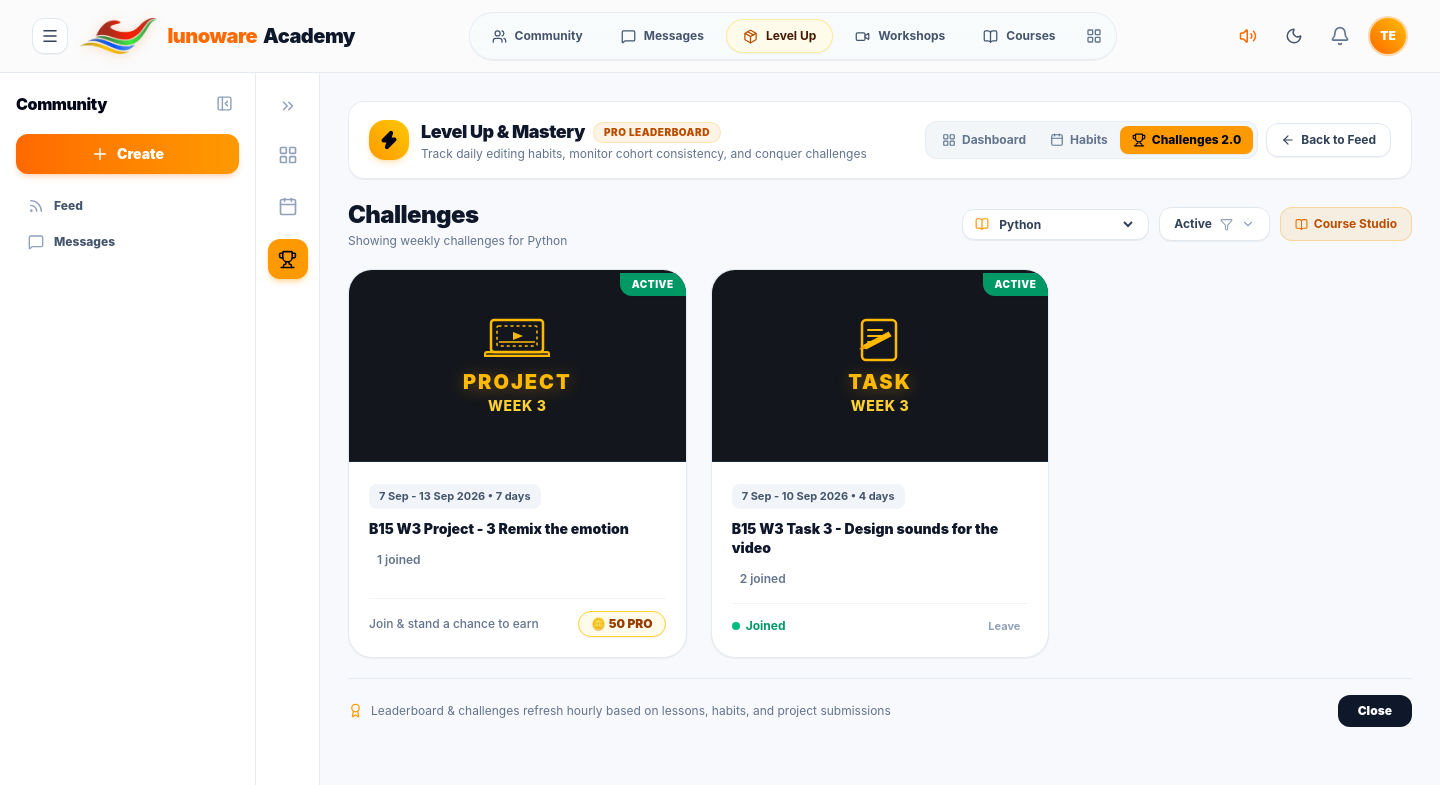
Scenario: CommunityHub & Components › renders Checkin details modal with 5 steps, points assigned, and submission action matching dynamic challenge data
This screenshot has width=1440, height=785.
Note: Click on Task 3 card to open details workspace
Click the heading "B15 W3 Task 3 - Design sounds for the video": (880, 538) [732, 518, 1028, 557]
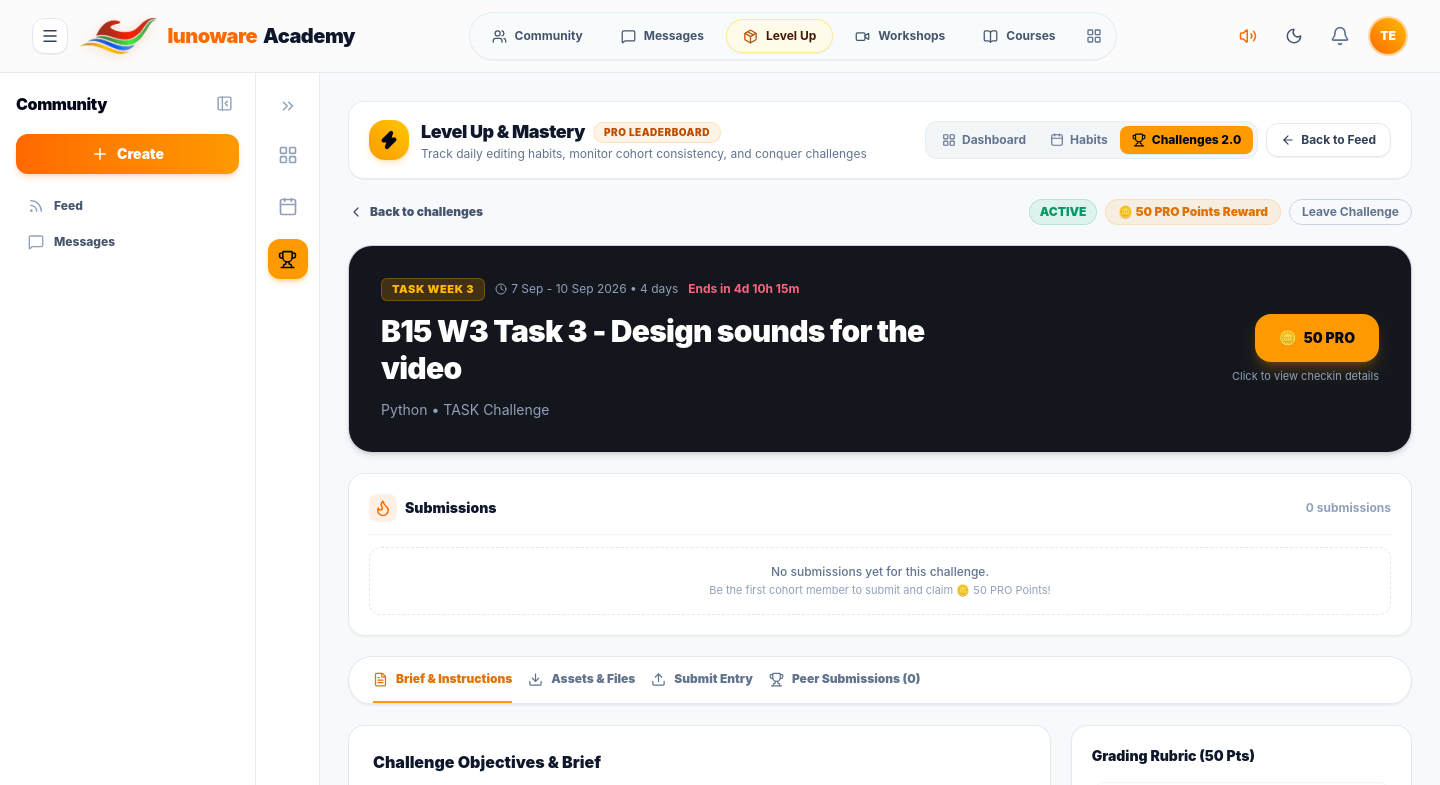
Note: Open Checkin modal via hero button
Click the button "🪙 50 PRO": (1317, 338) [1255, 314, 1379, 362]
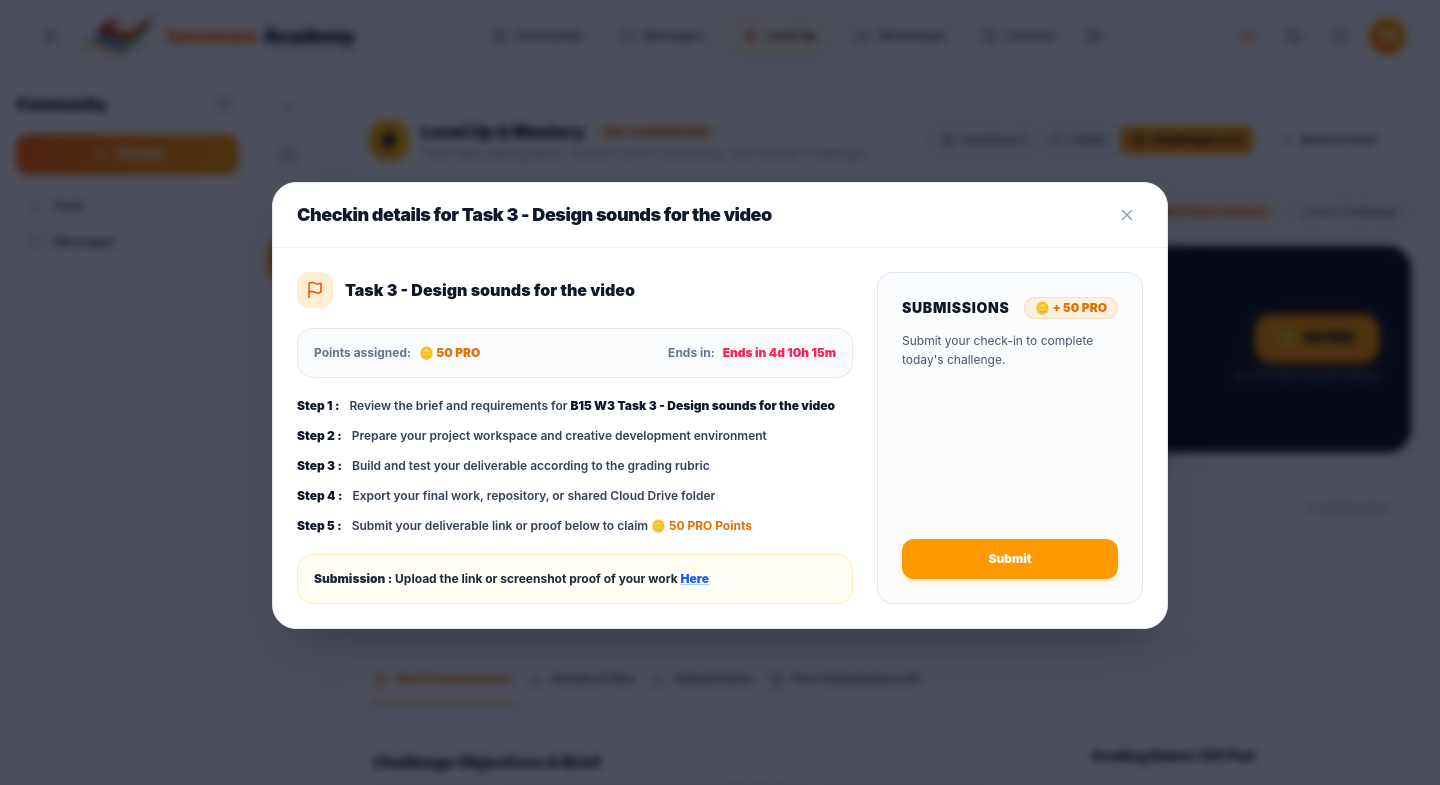
Now the heading "Checkin details for Task 3 - Design sounds for the video" is shown, box [297, 200, 772, 228]
Now the text "Points assigned:" is shown, box [314, 344, 411, 360]
Now the text "Ends in:" is shown, box [668, 344, 715, 360]
Note: Click Submit to open proof input form
Click the button "Submit": (1010, 558) [902, 538, 1118, 578]
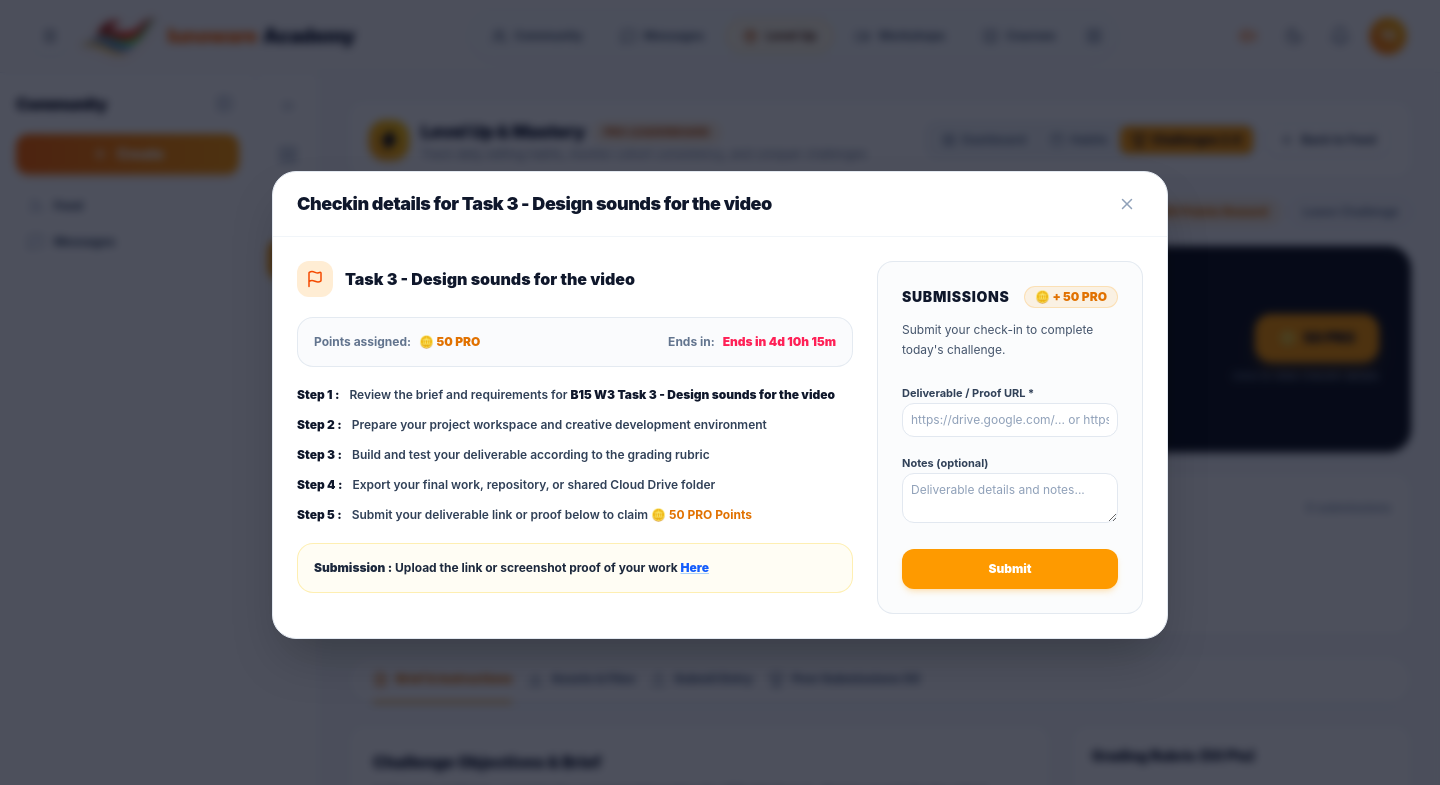
Now the field with placeholder "https://drive.google.com/... or https://github.com/..." is shown, box [902, 403, 1118, 437]
Note: Click Submit again to complete check-in
Click the button "Submit": (1010, 569) [902, 549, 1118, 589]
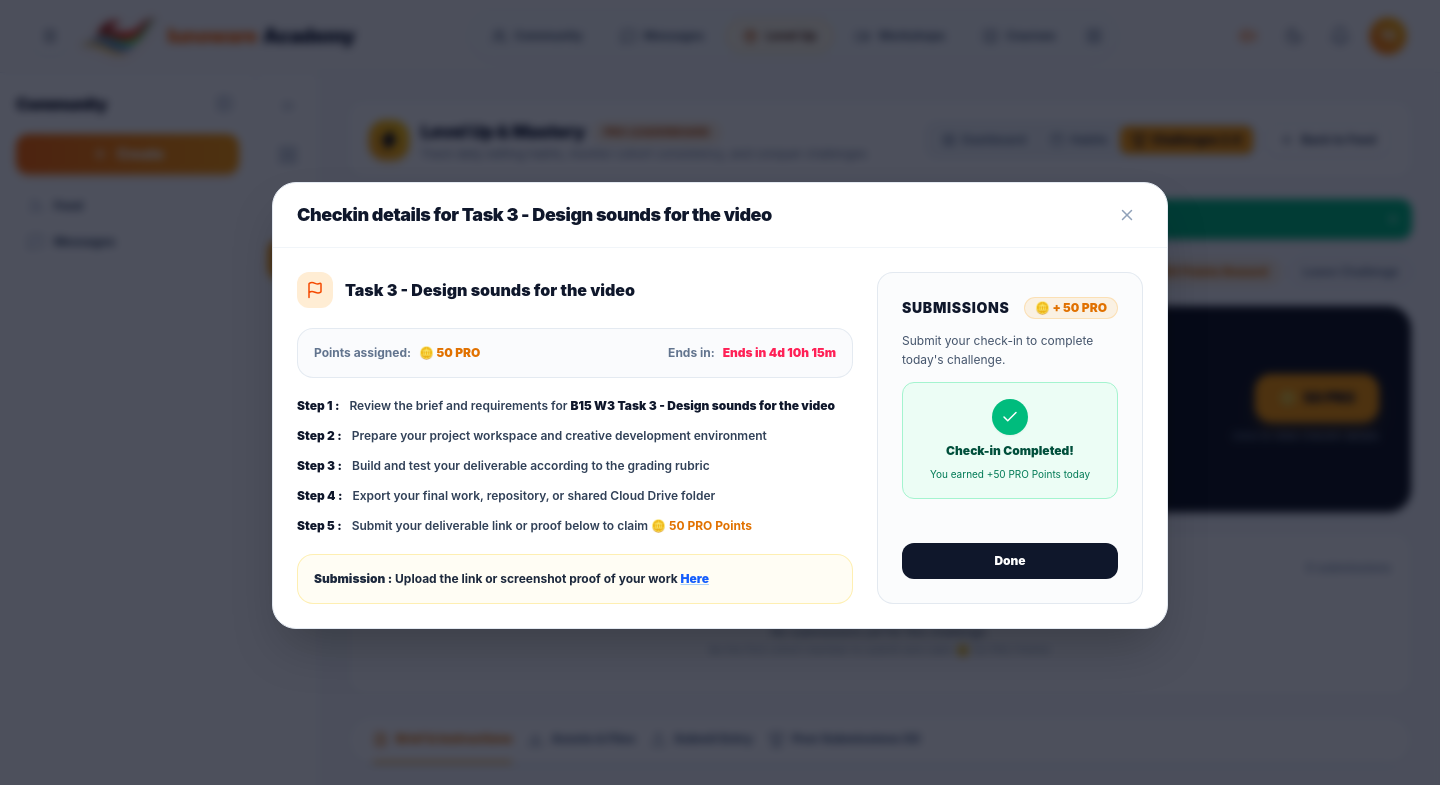
Now the text "Check-in Completed!" is shown, box [946, 442, 1074, 458]
Note: Close the modal
Click the button named "close modal": (1127, 214) [1111, 198, 1143, 230]
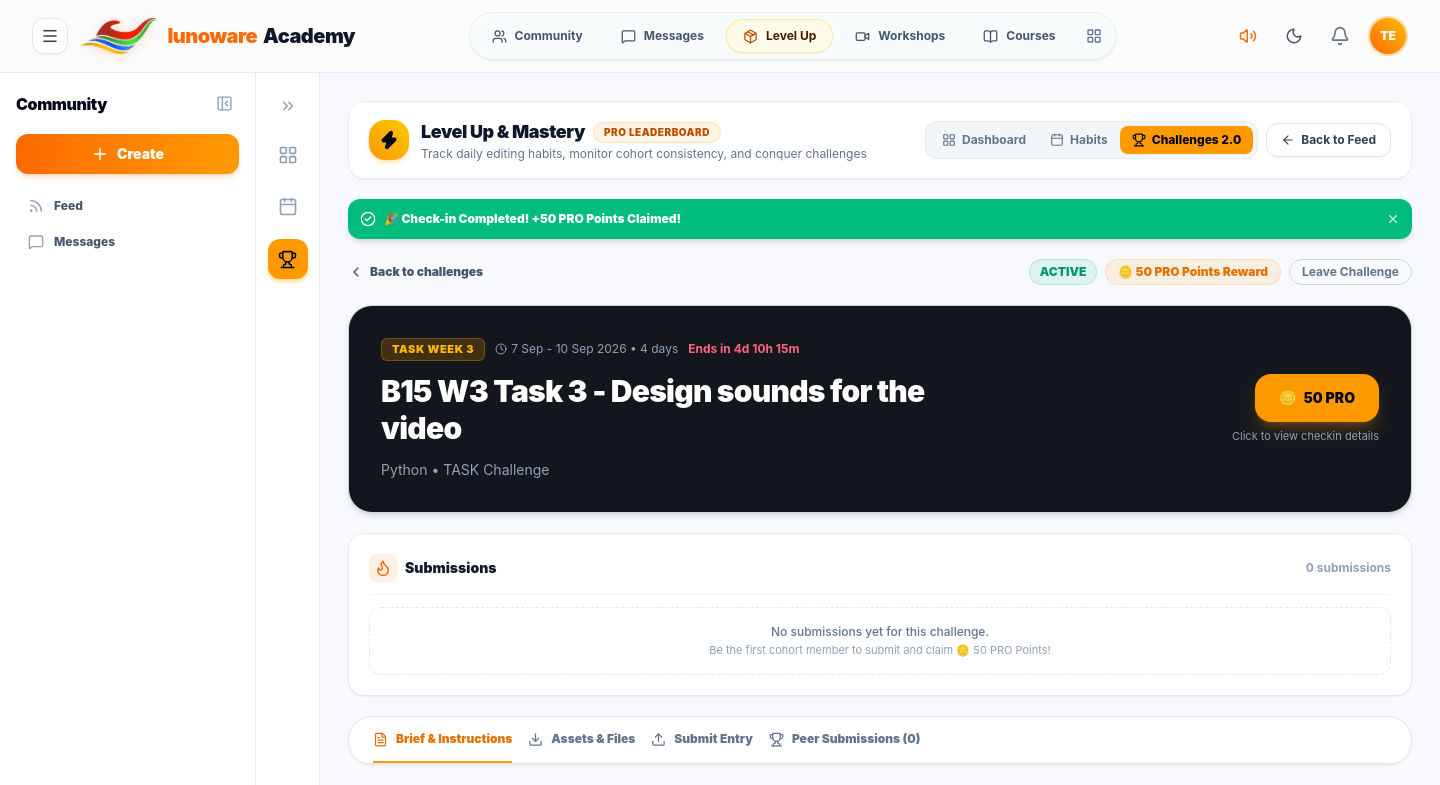
Now the heading "Checkin details for Task 3 - Design sounds for the video" is gone
